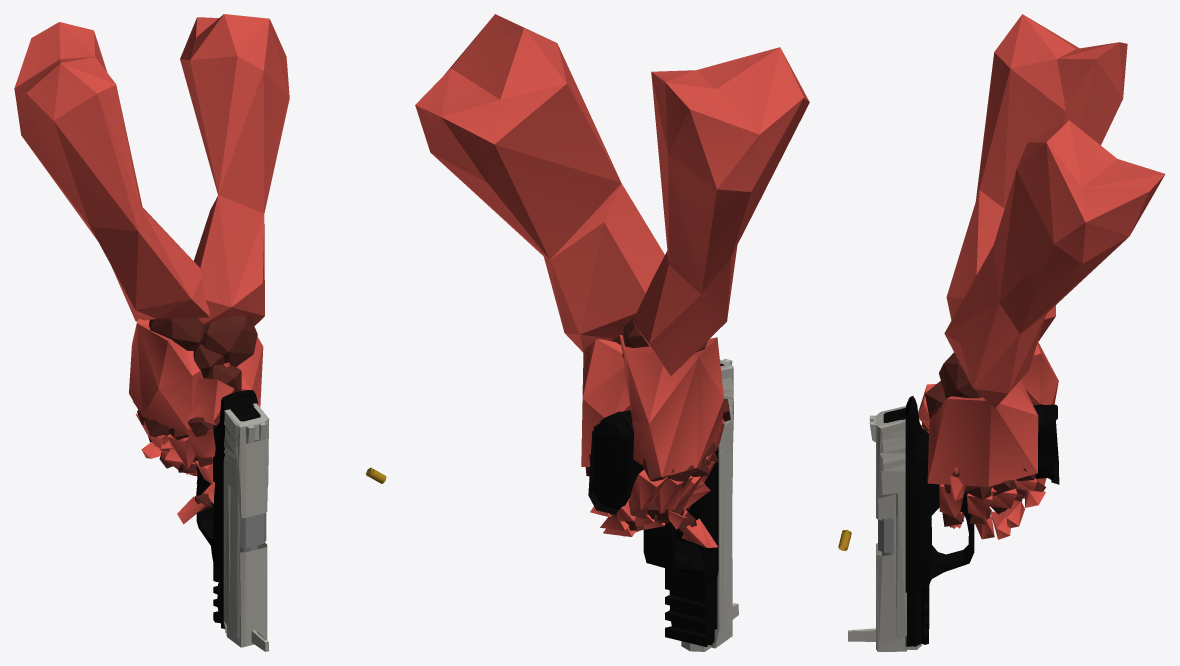
Rendered from M&P9shootLowP_000207.obj.
3 views of the same model, side by side, from view 1: azimuth 30°, elevation 25°; view 2: azimuth 150°, elevation 25°; view 3: azimuth 270°, elevation 25° (orthographic). The views are drawn at different scales.
Visible parts, largest first — view 1: Beta_Surface.001_Beta_Surface.002, slide_平面.002, Beta_Joints.001_Beta_Joints.002, triger_平面.001; view 2: Beta_Surface.001_Beta_Surface.002, triger_平面.001, slide_平面.002, Beta_Joints.001_Beta_Joints.002; view 3: Beta_Surface.001_Beta_Surface.002, triger_平面.001, slide_平面.002, Beta_Joints.001_Beta_Joints.002.
Part boxes in pixels (left/top/right/bottom): Beta_Surface.001_Beta_Surface.002: left=14, top=14, right=289, bottom=524; slide_平面.002: left=223, top=403, right=269, bottom=651; Beta_Joints.001_Beta_Joints.002: left=132, top=314, right=257, bottom=511; triger_平面.001: left=195, top=390, right=266, bottom=629; Beta_Surface.001_Beta_Surface.002: left=415, top=14, right=809, bottom=547; triger_平面.001: left=593, top=410, right=718, bottom=646; slide_平面.002: left=681, top=359, right=738, bottom=651; Beta_Joints.001_Beta_Joints.002: left=585, top=318, right=730, bottom=536; Beta_Surface.001_Beta_Surface.002: left=918, top=14, right=1165, bottom=539; triger_平面.001: left=878, top=396, right=1057, bottom=646; slide_平面.002: left=848, top=406, right=922, bottom=651; Beta_Joints.001_Beta_Joints.002: left=922, top=352, right=1045, bottom=527.
Bounding box in the file's own units: 42.47 × 80.1 × 41.58.
